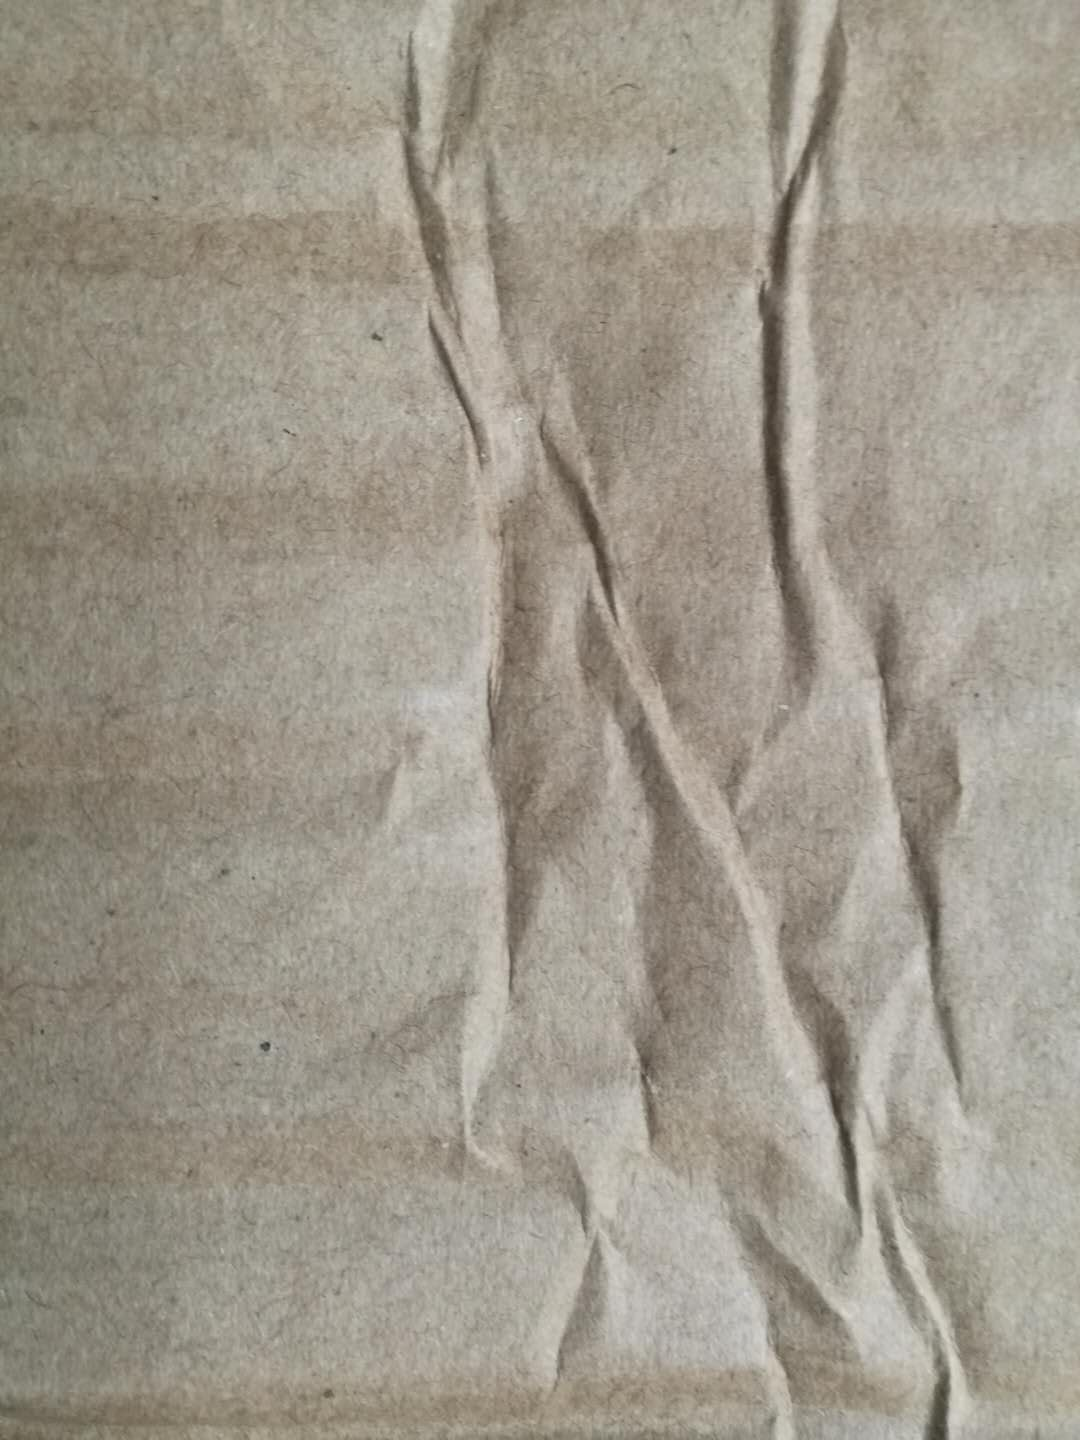defect: (186, 5, 1080, 1429)
